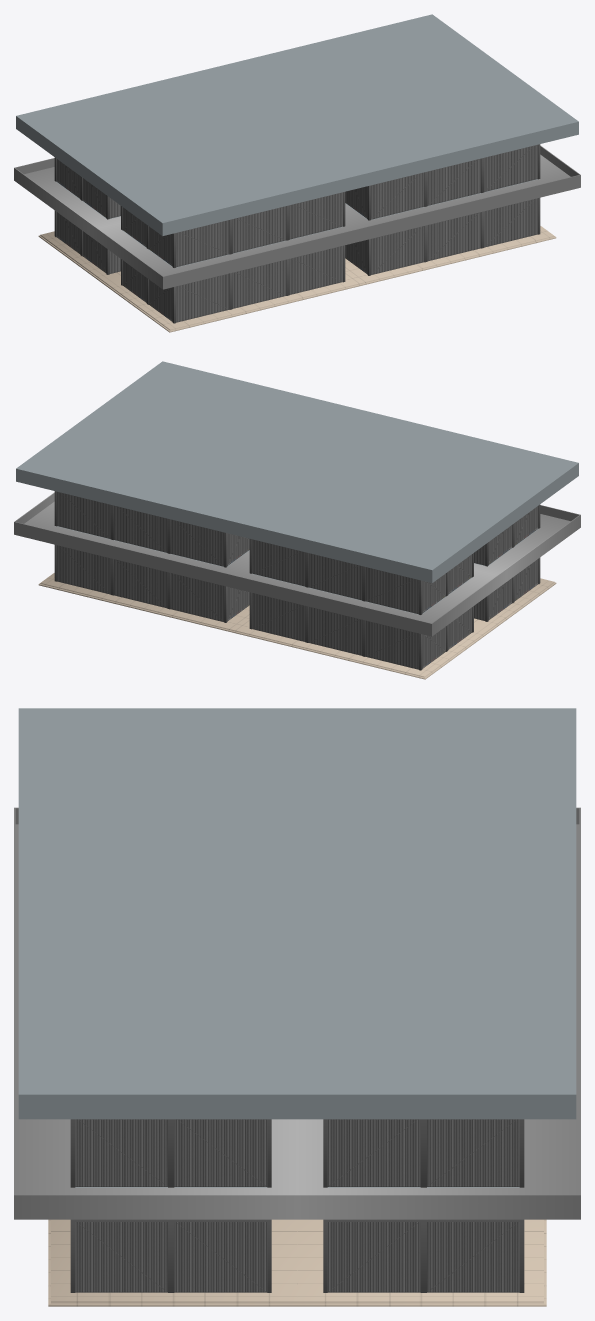
Rendered from PasarBuild1.fbx.
3 renders of one model, top to bottom at view 1: azimuth 30°, elevation 25°; view 2: azimuth 150°, elevation 25°; view 3: azimuth 270°, elevation 25°, orthographic. The views are drawn at different scales.
Visible parts, largest first — view 1: PasarBody1_LOD0, PasarBody2_LOD0, PasarFloor_LOD0; view 2: PasarBody1_LOD0, PasarBody2_LOD0, PasarFloor_LOD0; view 3: PasarBody1_LOD0, PasarBody2_LOD0, PasarFloor_LOD0.
Boxes of the visible parts, x1,y1,x2,y2 form: PasarBody1_LOD0: (14, 14, 580, 323); PasarBody2_LOD0: (56, 144, 537, 322); PasarFloor_LOD0: (38, 226, 556, 332); PasarBody1_LOD0: (14, 361, 580, 670); PasarBody2_LOD0: (57, 491, 538, 669); PasarFloor_LOD0: (38, 573, 556, 679); PasarBody1_LOD0: (14, 708, 580, 1292); PasarBody2_LOD0: (75, 1119, 519, 1292); PasarFloor_LOD0: (48, 1219, 546, 1306).
Size of what is drawn, in the model's own units: 4918 by 1335 by 3039.
